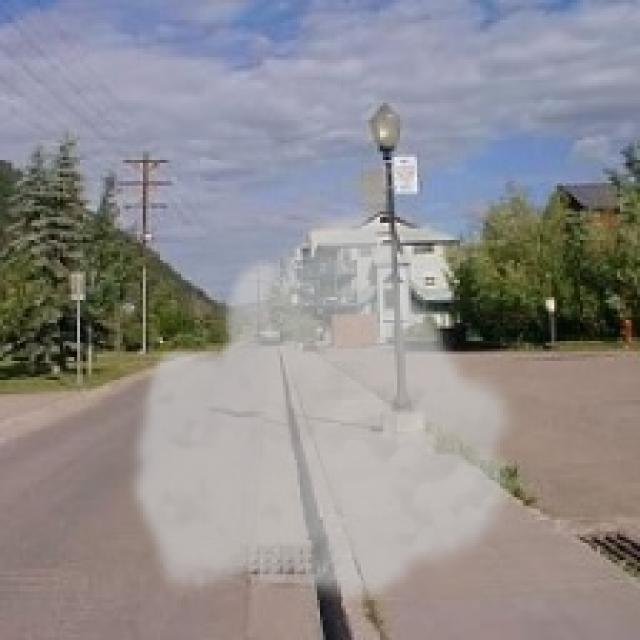smoke: (125, 200, 526, 606)
